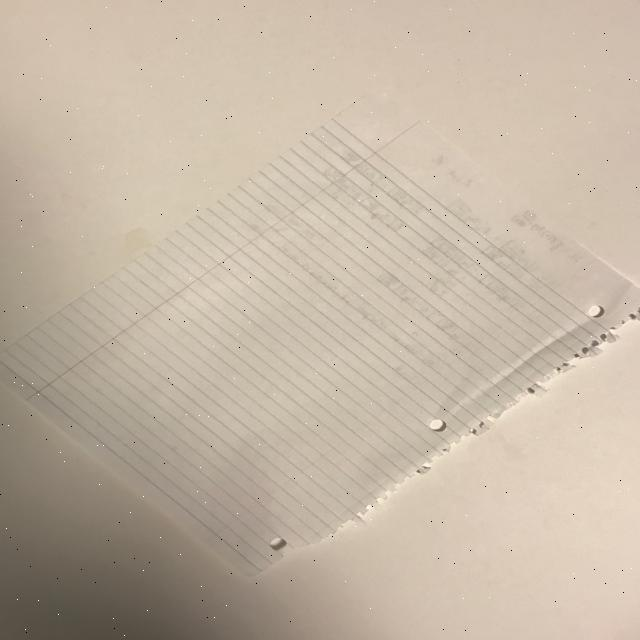paper: (1, 89, 639, 577)
